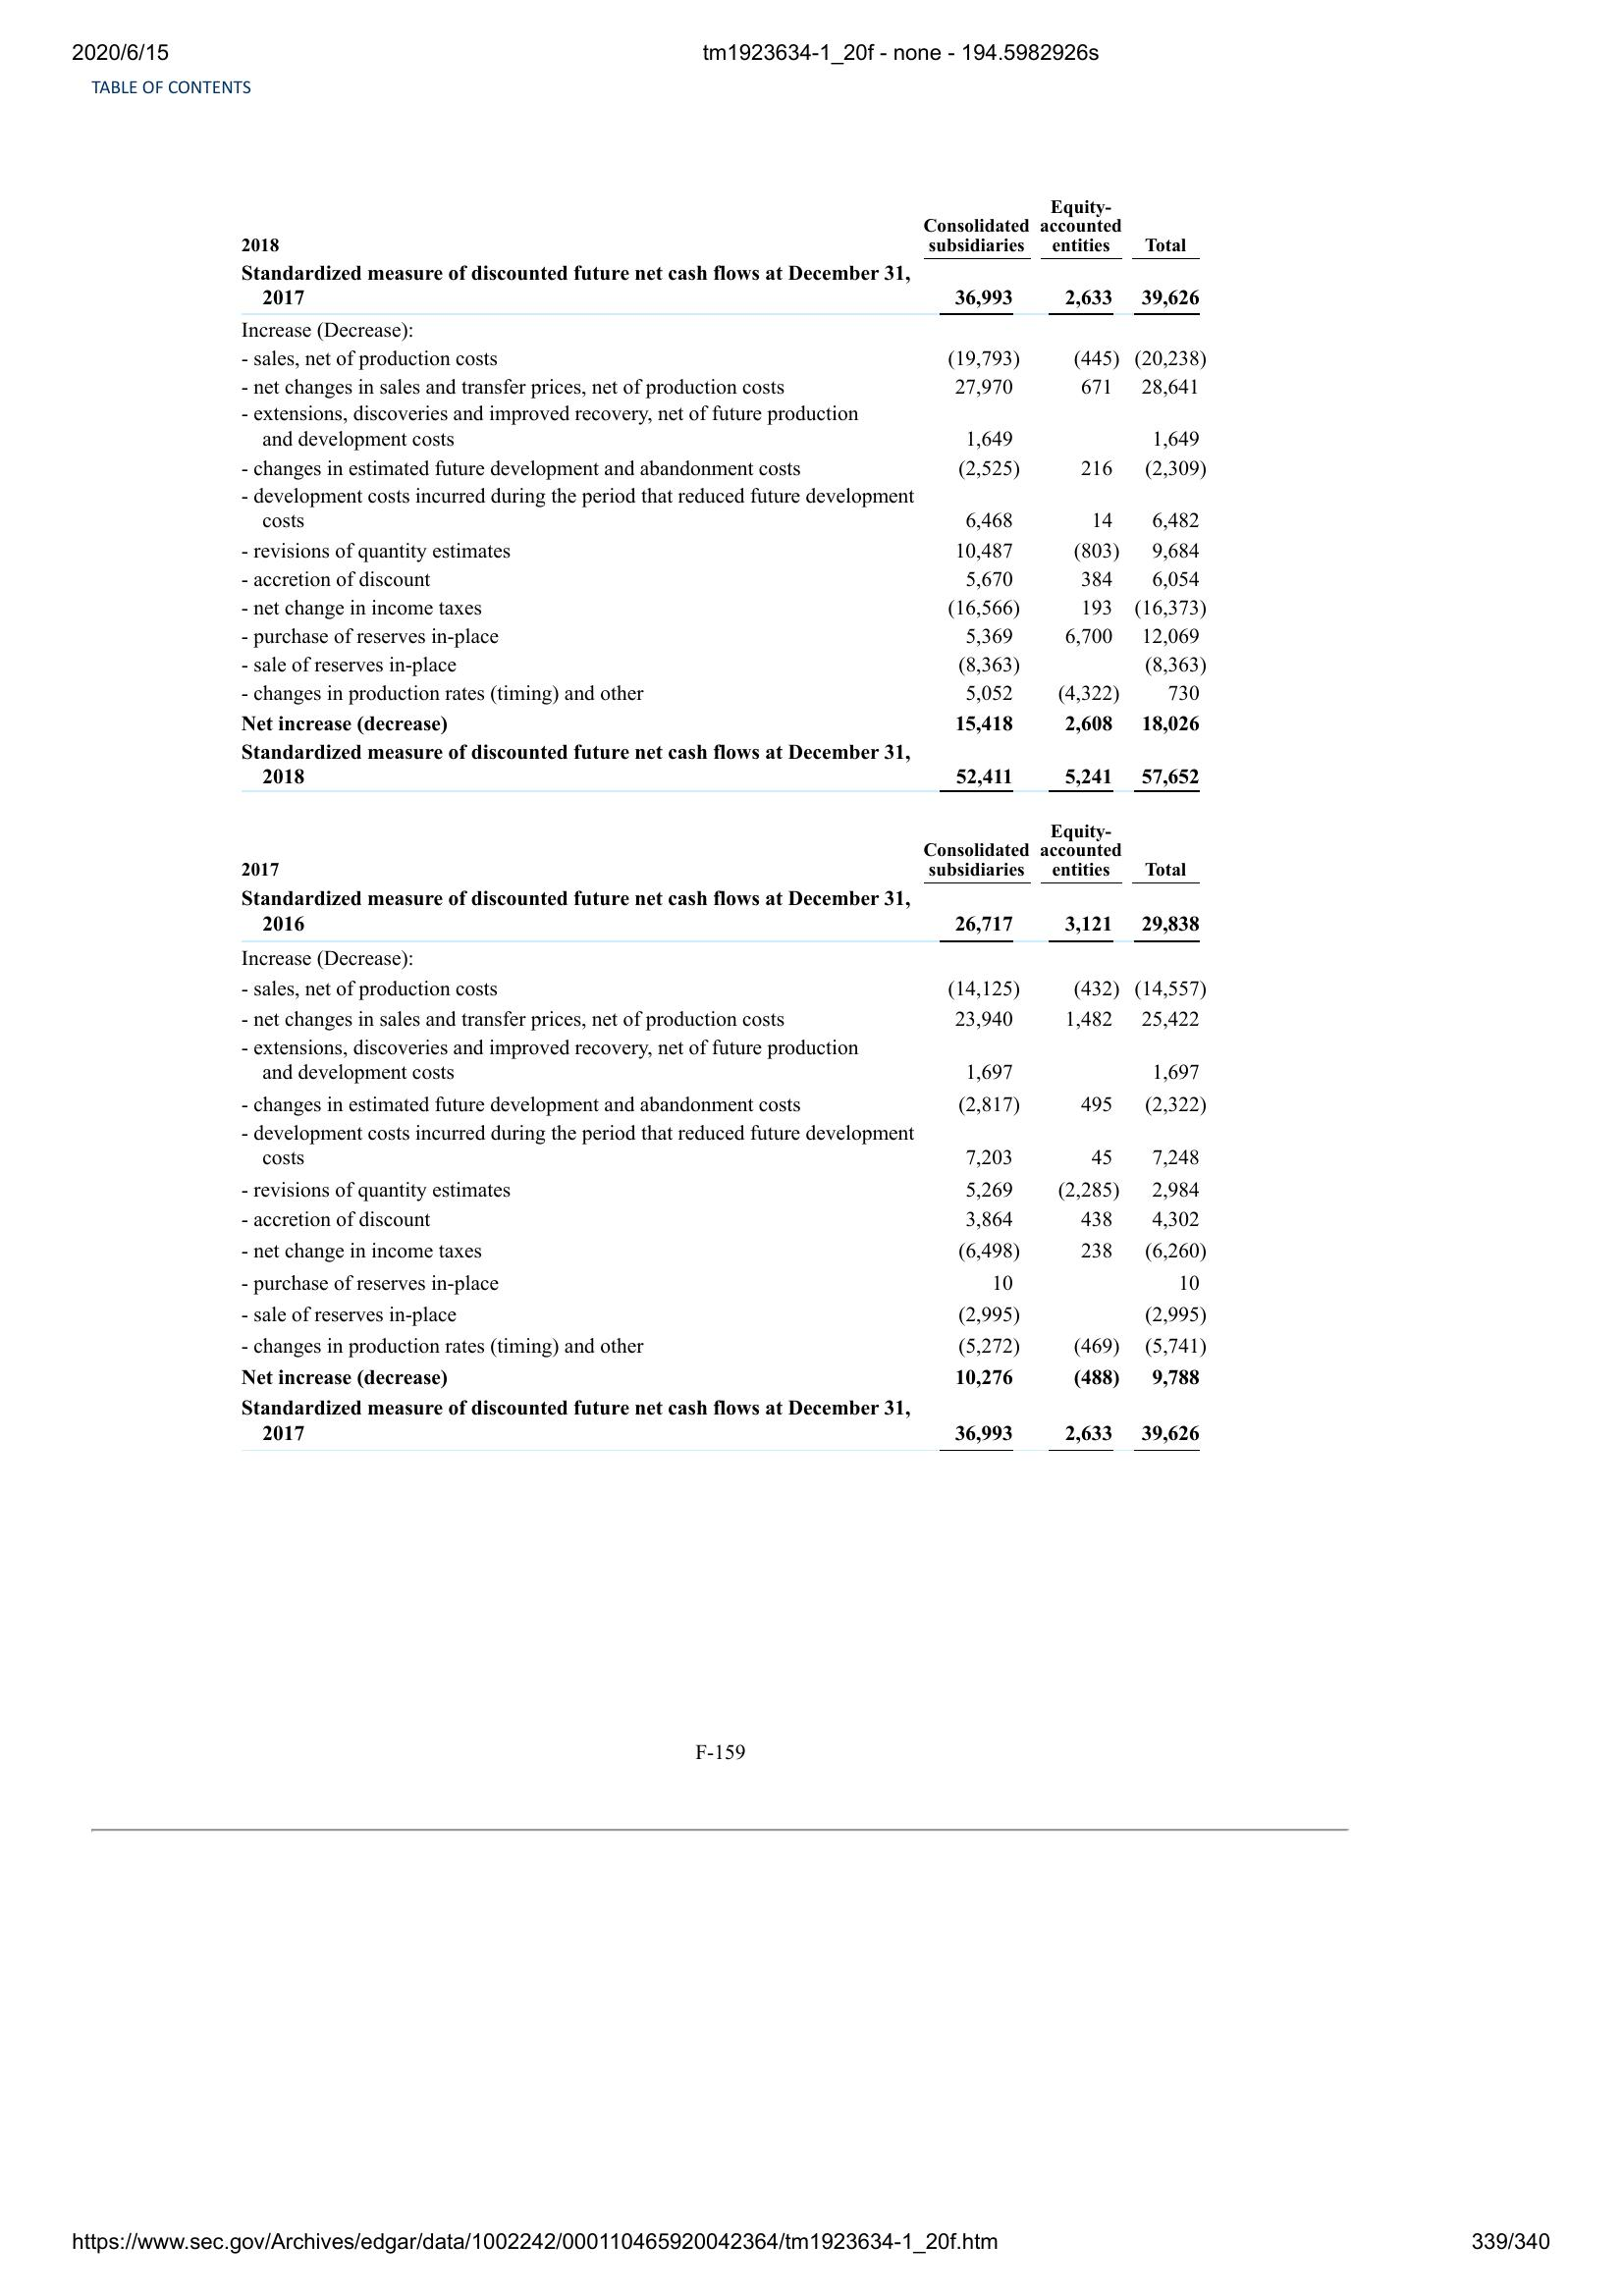table: (237, 816, 1210, 1457), (235, 193, 1208, 799)
